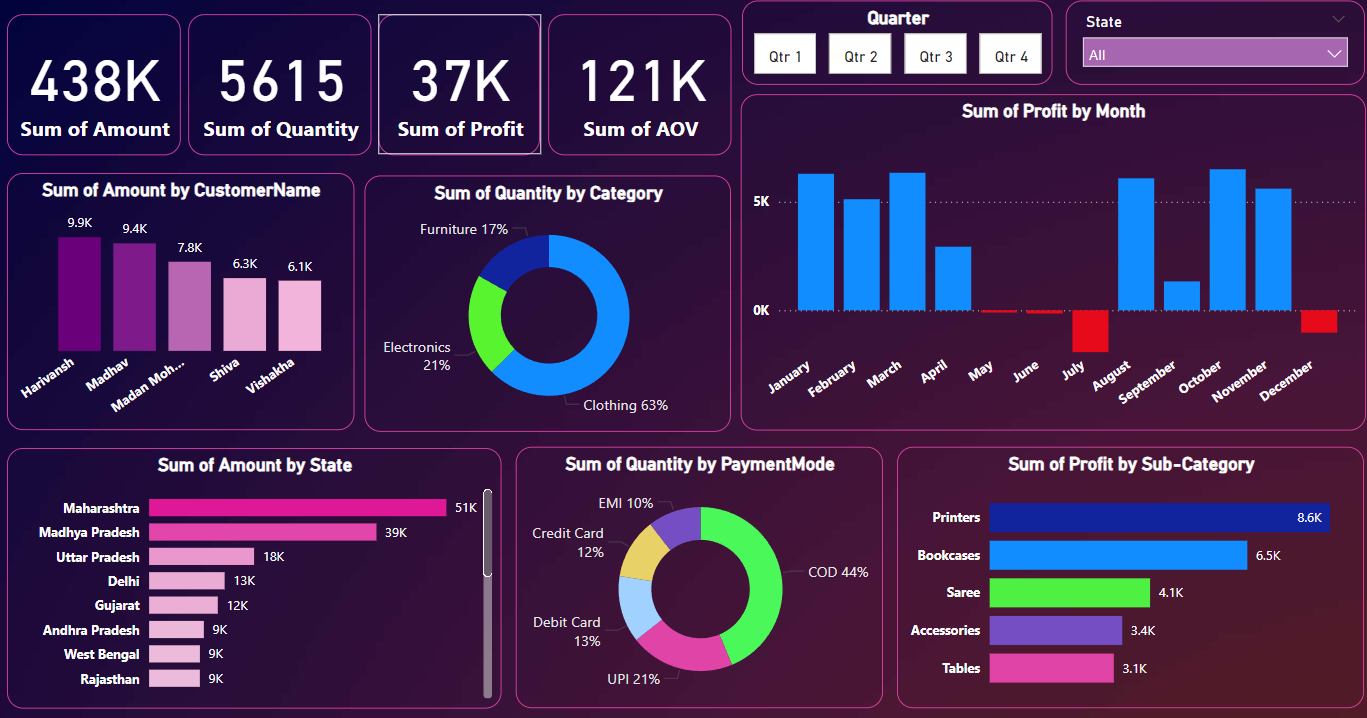

The dashboard page shown, as its layout file describes it:
{"tool":"powerbi","page":{"name":"Dashboard","canvas":[1280,720],"ordinal":0},"visuals":[{"type":"textbox","box":[136.2,0,428.5,41.6],"z":0},{"type":"columnChart","fields":{"Y":["Store Sales Data.Profit"],"Category":["Store Order Data.Order Date.Variation.Date Hierarchy.Month"]},"box":[691.4,131,581.2,313.2],"z":1000},{"type":"barChart","fields":{"Category":["Store Sales Data.Sub-Category"],"Y":["Store Sales Data.Profit"]},"box":[837.4,459.1,434.8,243.2],"z":2000},{"type":"donutChart","fields":{"Category":["Store Sales Data.Category"],"Y":["Store Sales Data.Quantity"]},"box":[341.8,206.5,340.9,238.6],"z":3000},{"type":"donutChart","fields":{"Y":["Store Sales Data.Quantity"],"Category":["Store Sales Data.PaymentMode"]},"box":[482.4,459.1,341.4,243.2],"z":4000},{"type":"card","fields":{"Values":["Store Sales Data.Amount"]},"box":[9.7,56.4,161.5,131.3],"z":5000},{"type":"card","fields":{"Values":["Store Sales Data.Quantity"]},"box":[178,56.4,170.2,131.3],"z":6000},{"type":"card","fields":{"Values":["Store Sales Data.Profit"]},"box":[355,56.4,150.8,131.3],"z":7000},{"type":"card","fields":{"Values":["Store Sales Data.AOV"]},"box":[512.6,56.4,170.2,131.3],"z":8000},{"type":"barChart","fields":{"Category":["Store Order Data.State"],"Y":["Store Sales Data.Amount"]},"box":[9.7,460.1,460.1,242.2],"z":9000},{"type":"columnChart","fields":{"Category":["Store Order Data.CustomerName"],"Y":["Store Sales Data.Amount"]},"box":[9.7,205.2,322.9,239.3],"z":10000},{"type":"advancedSlicerVisual","fields":{"Values":["Store Order Data.Order Date.Variation.Date Hierarchy.Quarter"]},"box":[693.1,44.2,288.9,78.1],"z":11000},{"type":"slicer","fields":{"Values":["Store Order Data.State"]},"box":[994.1,44.2,278.5,78.1],"z":12000},{"type":"actionButton","box":[0,0,100,40],"z":13000}]}

Visuals, with their boxes on the page's 1280x720 design canvas (x1, y1, x2, y2). These are canvas units, not pixel positions in the 1367x718 screenshot, which may show the page scaled, cropped or inside an application window:
textbox: bbox=(136, 0, 565, 42)
columnChart - Store Sales Data.Profit x Store Order Data.Order Date.Variation.Date Hierarchy.Month: bbox=(691, 131, 1273, 444)
barChart - Store Sales Data.Sub-Category x Store Sales Data.Profit: bbox=(837, 459, 1272, 702)
donutChart - Store Sales Data.Category x Store Sales Data.Quantity: bbox=(342, 206, 683, 445)
donutChart - Store Sales Data.Quantity x Store Sales Data.PaymentMode: bbox=(482, 459, 824, 702)
card - Store Sales Data.Amount: bbox=(10, 56, 171, 188)
card - Store Sales Data.Quantity: bbox=(178, 56, 348, 188)
card - Store Sales Data.Profit: bbox=(355, 56, 506, 188)
card - Store Sales Data.AOV: bbox=(513, 56, 683, 188)
barChart - Store Order Data.State x Store Sales Data.Amount: bbox=(10, 460, 470, 702)
columnChart - Store Order Data.CustomerName x Store Sales Data.Amount: bbox=(10, 205, 333, 444)
advancedSlicerVisual - Store Order Data.Order Date.Variation.Date Hierarchy.Quarter: bbox=(693, 44, 982, 122)
slicer - Store Order Data.State: bbox=(994, 44, 1273, 122)
actionButton: bbox=(0, 0, 100, 40)
